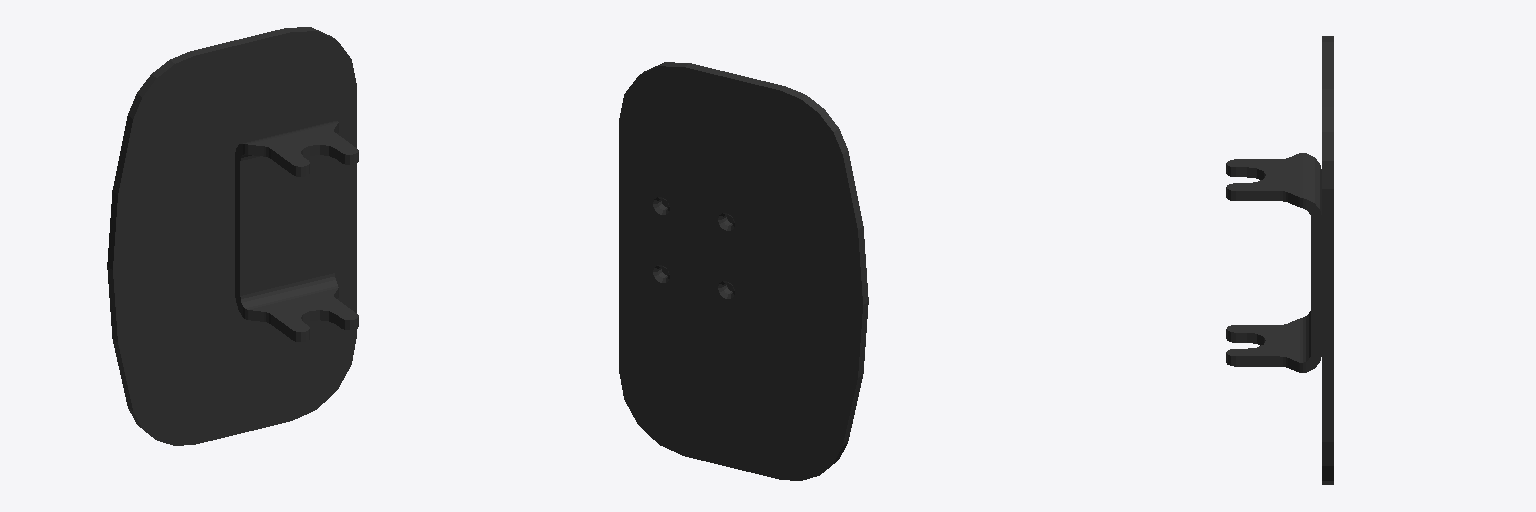
Rendered from Shoe_Flex_1_mesh_0.obj.
The picture shows the model from 3 angles: view 1: azimuth 30°, elevation 25°; view 2: azimuth 150°, elevation 25°; view 3: azimuth 270°, elevation 25°; orthographic projection.
Size of the model in its own units: 0.075 by 0.1143 by 0.0286.